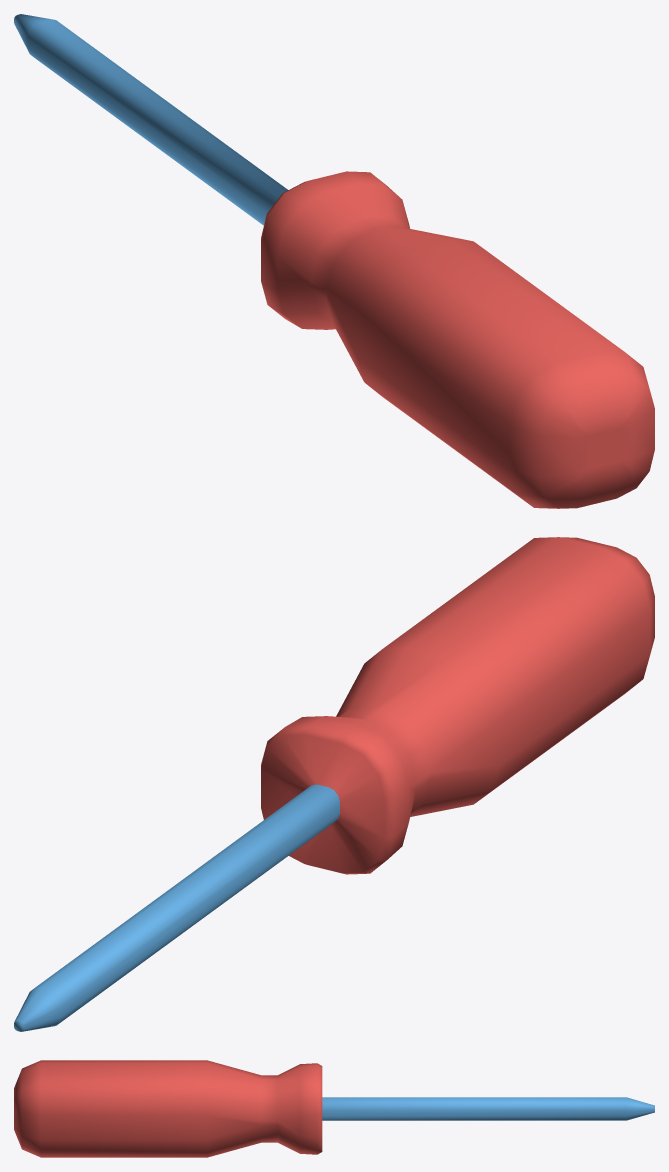
The model's file is screwdriver.fbx.
3 views of the same model, one above another, from view 1: azimuth 30°, elevation 25°; view 2: azimuth 150°, elevation 25°; view 3: azimuth 270°, elevation 25° (orthographic). The views are drawn at different scales.
Visible parts, largest first — view 1: screwdriver; view 2: screwdriver; view 3: screwdriver.
Boxes of the visible parts, x1=… form: screwdriver: x1=14, y1=14, x2=654, y2=508; screwdriver: x1=14, y1=537, x2=654, y2=1031; screwdriver: x1=14, y1=1060, x2=654, y2=1157.
Size of the model in its own units: 200 by 200 by 1445.
